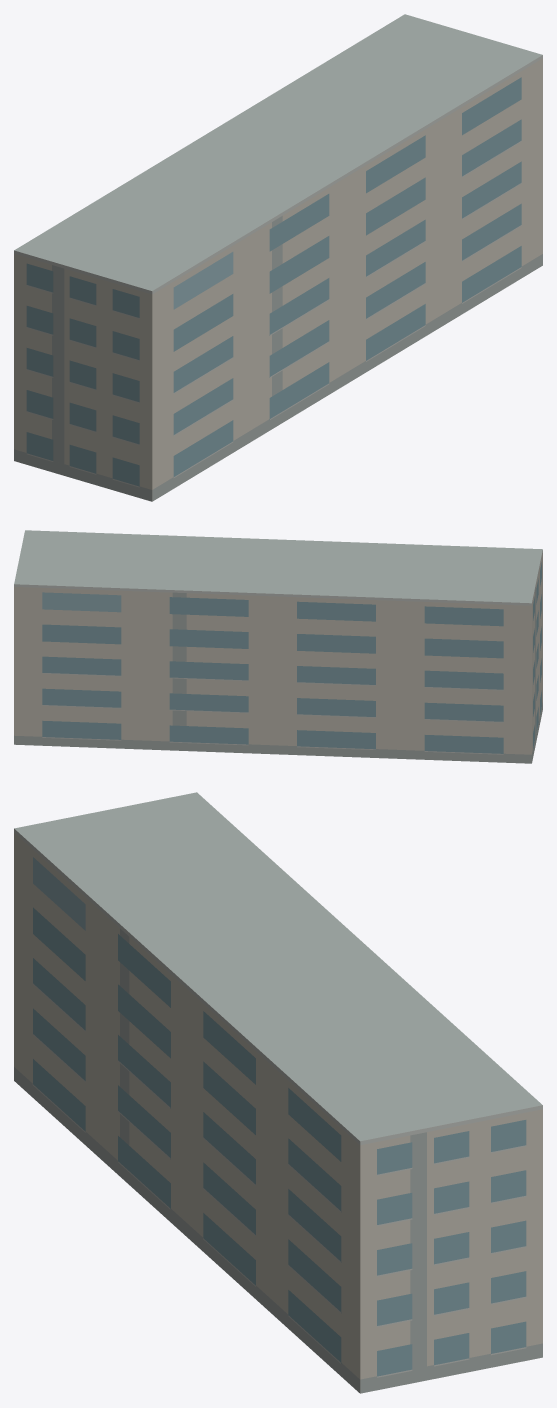
File: residential-54aa4d04-ae39-49c7-95fd-f5291b50bd8d.glb
3 views of the same model, one above another, from view 1: azimuth 30°, elevation 25°; view 2: azimuth 150°, elevation 25°; view 3: azimuth 270°, elevation 25° (orthographic). The views are drawn at different scales.
Parts seen in each view (by area): view 1: residential-54aa4d04-ae39-49c7-95fd-f5291b50bd8d.tmp; view 2: residential-54aa4d04-ae39-49c7-95fd-f5291b50bd8d.tmp; view 3: residential-54aa4d04-ae39-49c7-95fd-f5291b50bd8d.tmp.
Part boxes in pixels (x1,y1,x2,y2): residential-54aa4d04-ae39-49c7-95fd-f5291b50bd8d.tmp: (14,14,542,501); residential-54aa4d04-ae39-49c7-95fd-f5291b50bd8d.tmp: (14,530,542,763); residential-54aa4d04-ae39-49c7-95fd-f5291b50bd8d.tmp: (14,792,542,1393).
Size of the model in its own units: 45.25 by 15.25 by 28.98.
